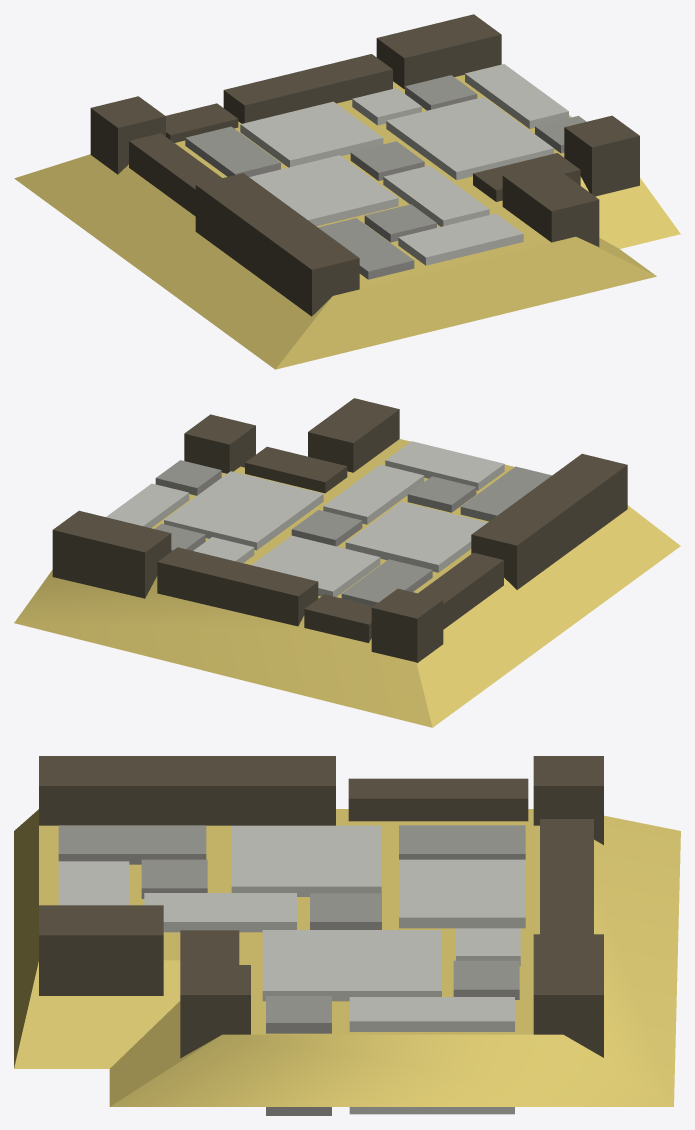
File: stoneroad_corner.fbx
3 renders of one model, top to bottom at view 1: azimuth 30°, elevation 25°; view 2: azimuth 150°, elevation 25°; view 3: azimuth 270°, elevation 25°, orthographic. The views are drawn at different scales.
Visible parts, largest first — view 1: polySurface233; view 2: polySurface233; view 3: polySurface233.
Part boxes in pixels (x1=…): polySurface233: x1=14, y1=14, x2=680, y2=369; polySurface233: x1=14, y1=398, x2=680, y2=727; polySurface233: x1=14, y1=756, x2=680, y2=1115.
Size of the model in its own units: 92.45 by 19.07 by 94.42.
1 material, 1 textured.
